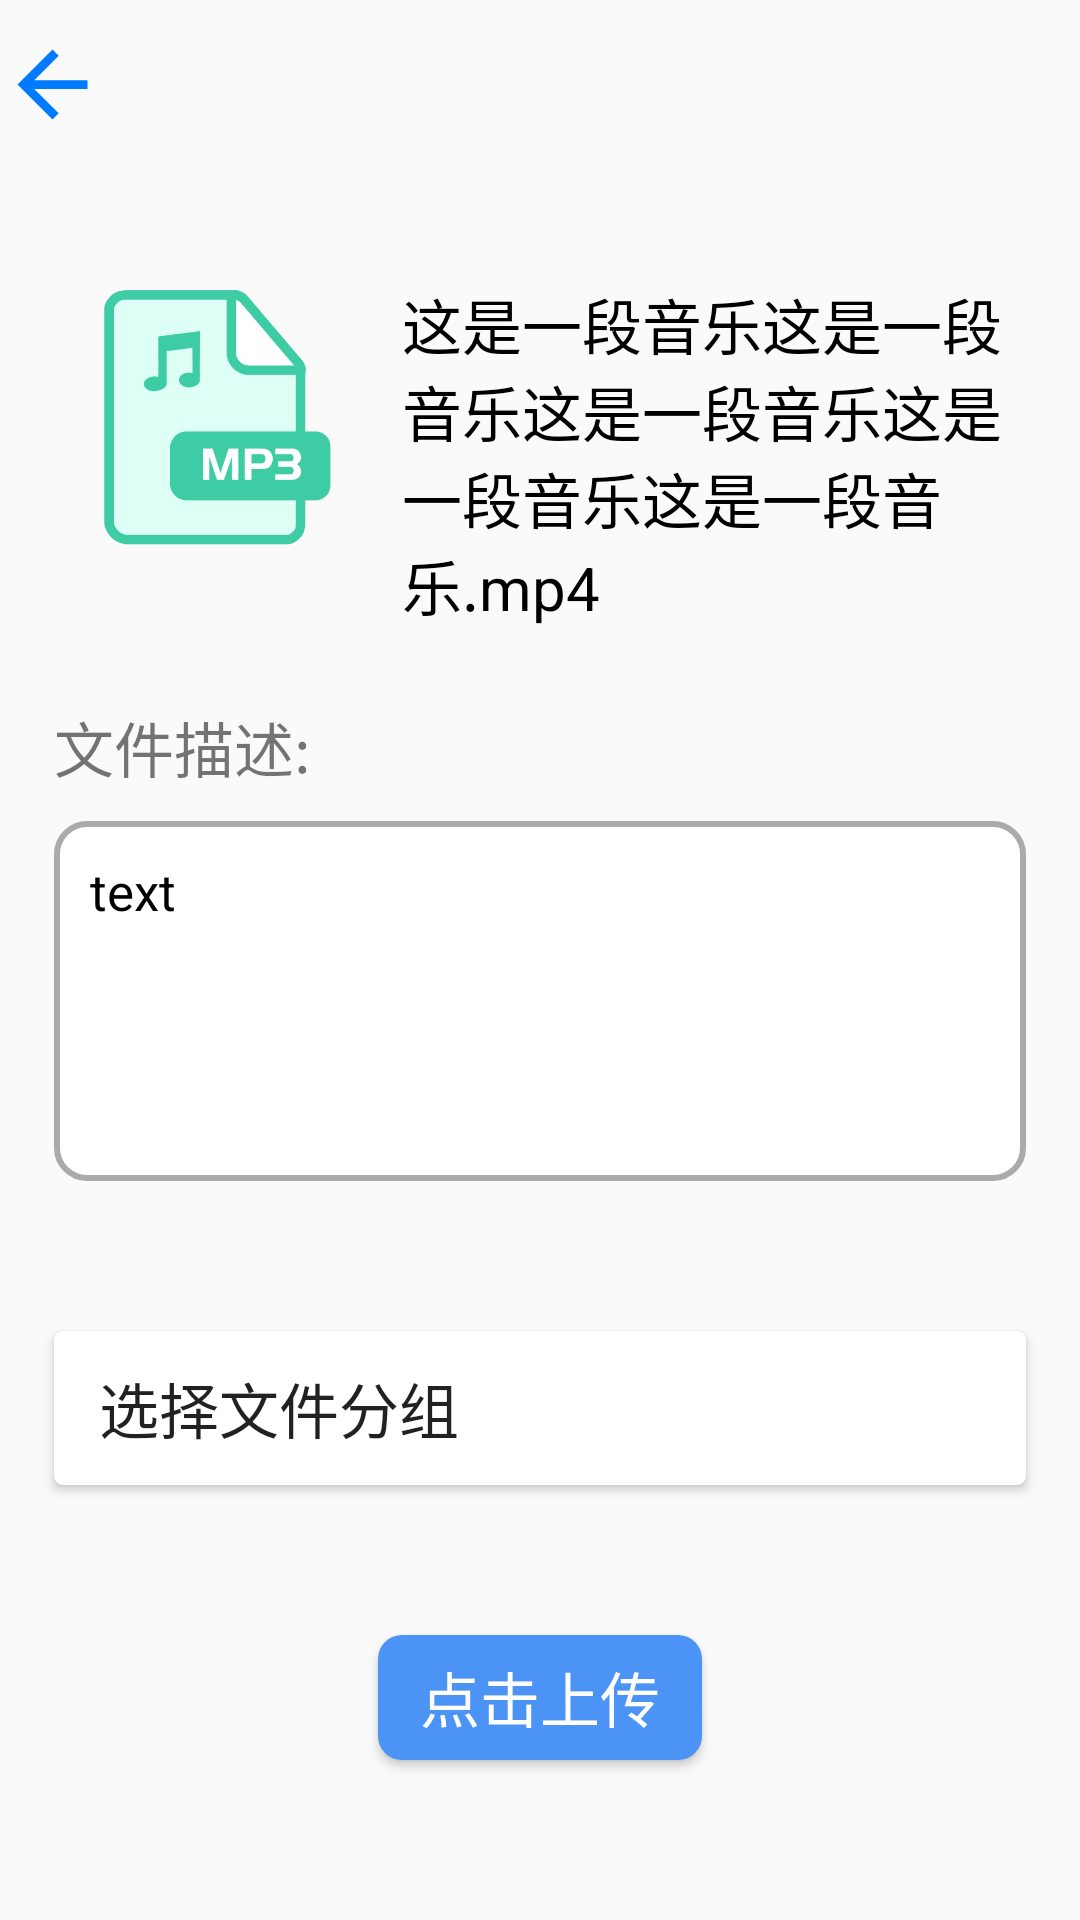

Where icons sit on this 1080w x 1920h app screen, as (x1, y1, x2, y2):
arrow back: (17, 49, 88, 120)
document type mp: (104, 290, 331, 545)
